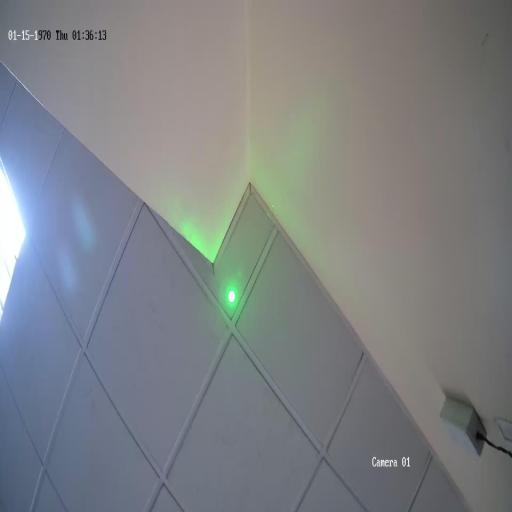laser: (226, 286, 237, 308)
